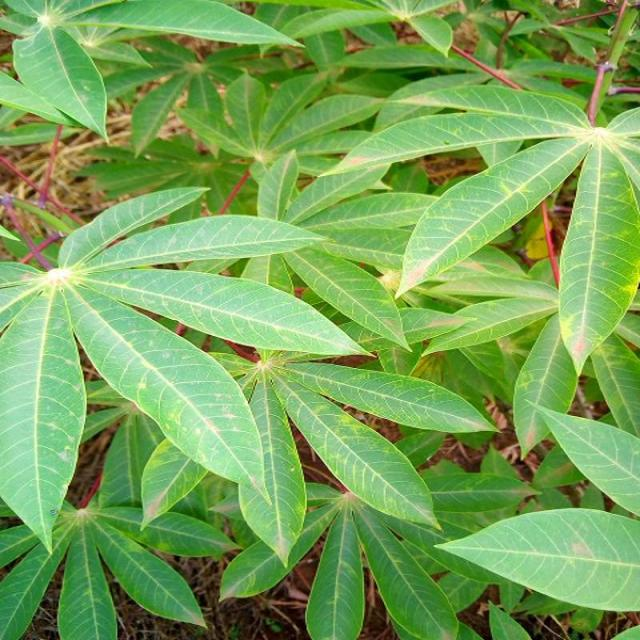cassava leaf: (1, 1, 638, 637), (0, 260, 86, 554), (557, 136, 638, 376)
